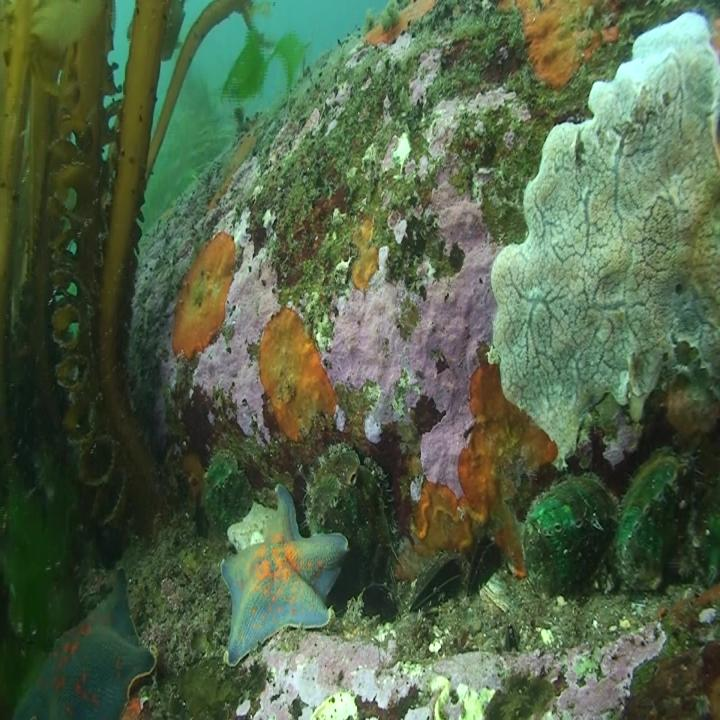starfish: (222, 481, 348, 670), (12, 564, 156, 720)
